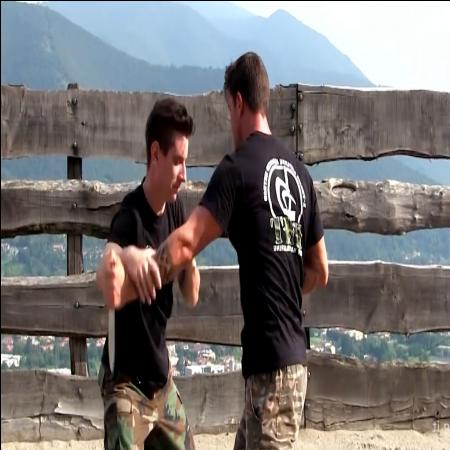long weapon: (101, 248, 120, 374)
